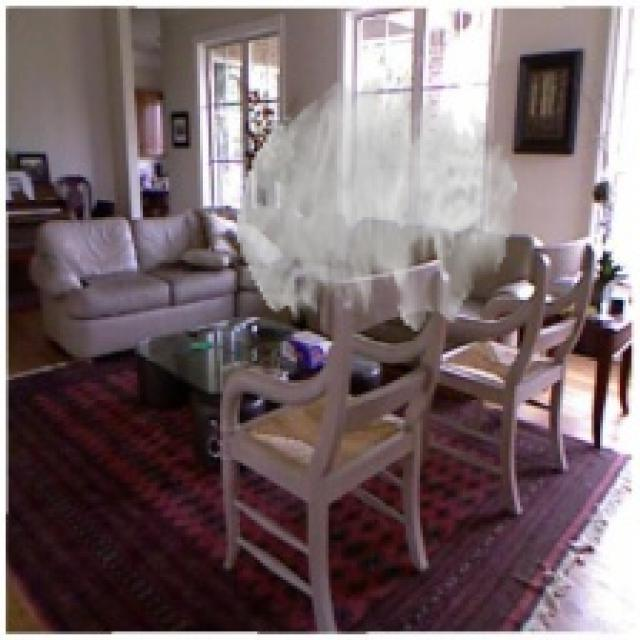smoke: (237, 77, 517, 332)
